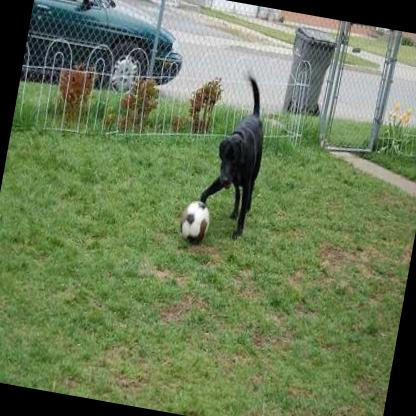ball: (177, 198, 212, 246)
